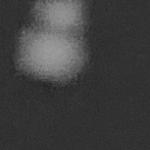colony: (5, 19, 99, 98), (23, 0, 103, 44)
